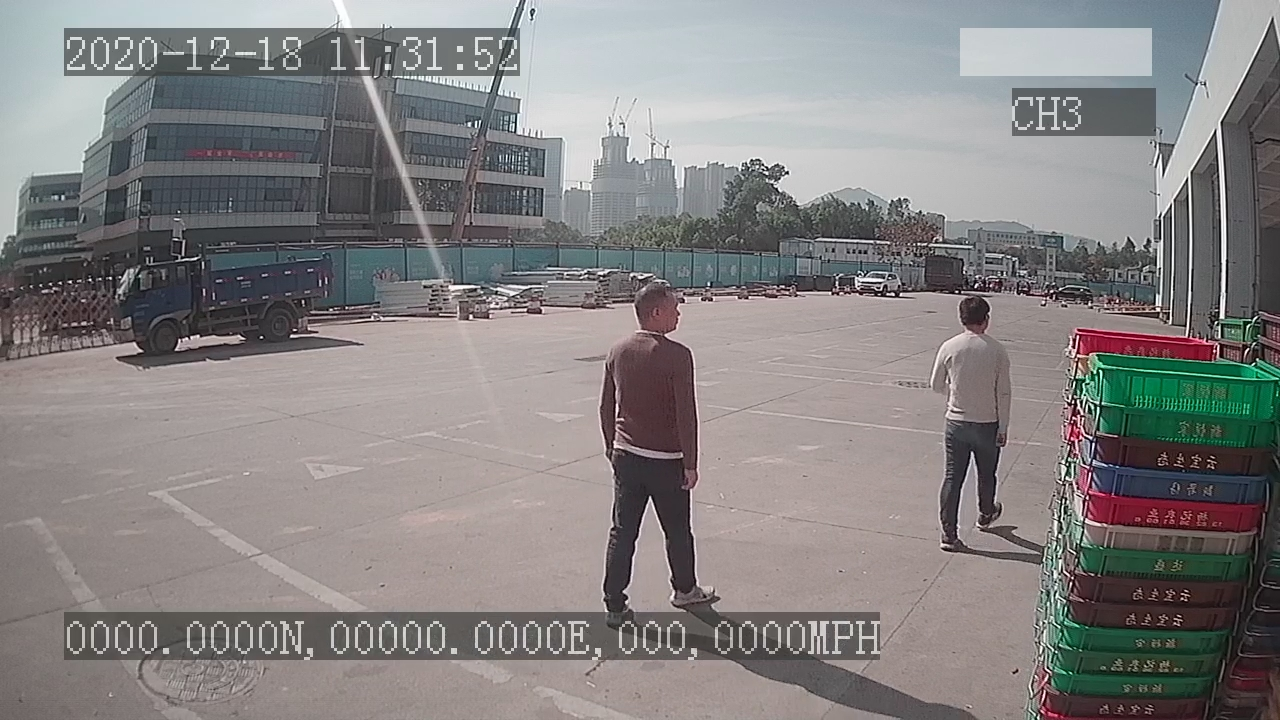person: (923, 296, 1013, 556)
